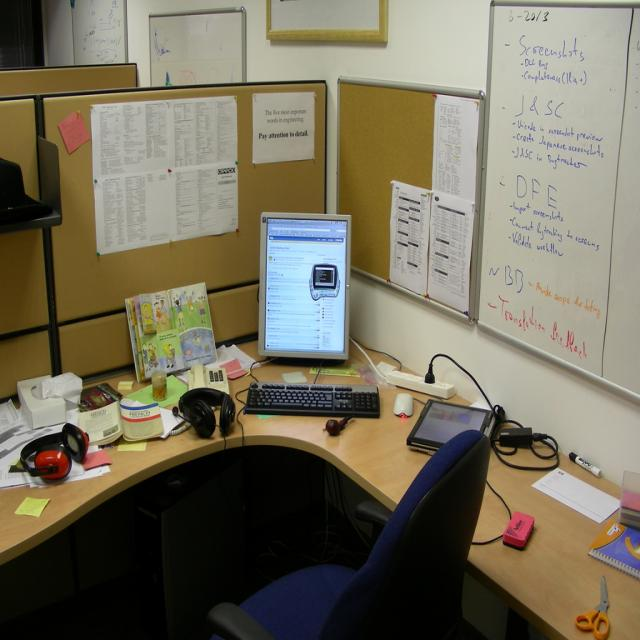chair: (208, 430, 493, 639)
desk: (0, 320, 639, 639)
keyboard: (242, 383, 379, 418)
mouse: (393, 392, 414, 418)
tv: (257, 212, 352, 364)
